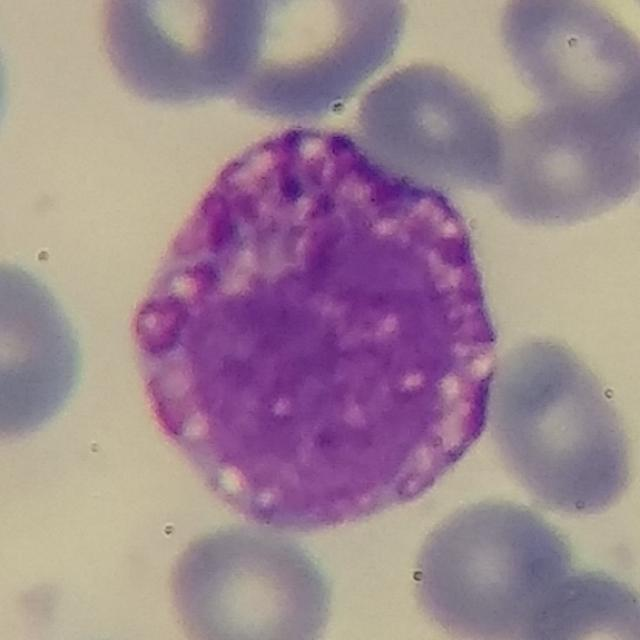baso: (131, 122, 505, 534)
